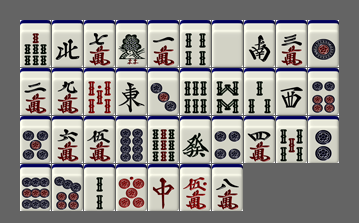0m: (180, 164, 211, 211)
0p: (116, 164, 147, 211)
0s: (84, 68, 115, 115)
1m: (148, 20, 179, 67)
1p: (308, 20, 339, 67)
1s: (116, 20, 147, 67)
1z: (116, 68, 147, 115)
2m: (20, 68, 51, 115)
2p: (308, 116, 339, 163)
2s: (84, 164, 115, 211)
2z: (244, 20, 275, 67)
3m: (276, 20, 307, 67)
3p: (148, 68, 179, 115)
3s: (244, 68, 275, 115)
3z: (276, 68, 307, 115)
4m: (244, 116, 275, 163)
4p: (212, 116, 243, 163)
4s: (180, 20, 211, 67)
4z: (52, 20, 83, 67)
5m: (84, 116, 115, 163)
5p: (20, 116, 51, 163)
5s: (276, 116, 307, 163)
5z: (212, 20, 243, 67)
6m: (52, 116, 83, 163)
6p: (308, 68, 339, 115)
6s: (180, 68, 211, 115)
6z: (180, 116, 211, 163)
7m: (84, 20, 115, 67)
7p: (52, 164, 83, 211)
7s: (20, 20, 51, 67)
7z: (148, 164, 179, 211)
8m: (212, 164, 243, 211)
8p: (116, 116, 147, 163)
8s: (212, 68, 243, 115)
9m: (52, 68, 83, 115)
9p: (20, 164, 51, 211)
9s: (148, 116, 179, 163)
